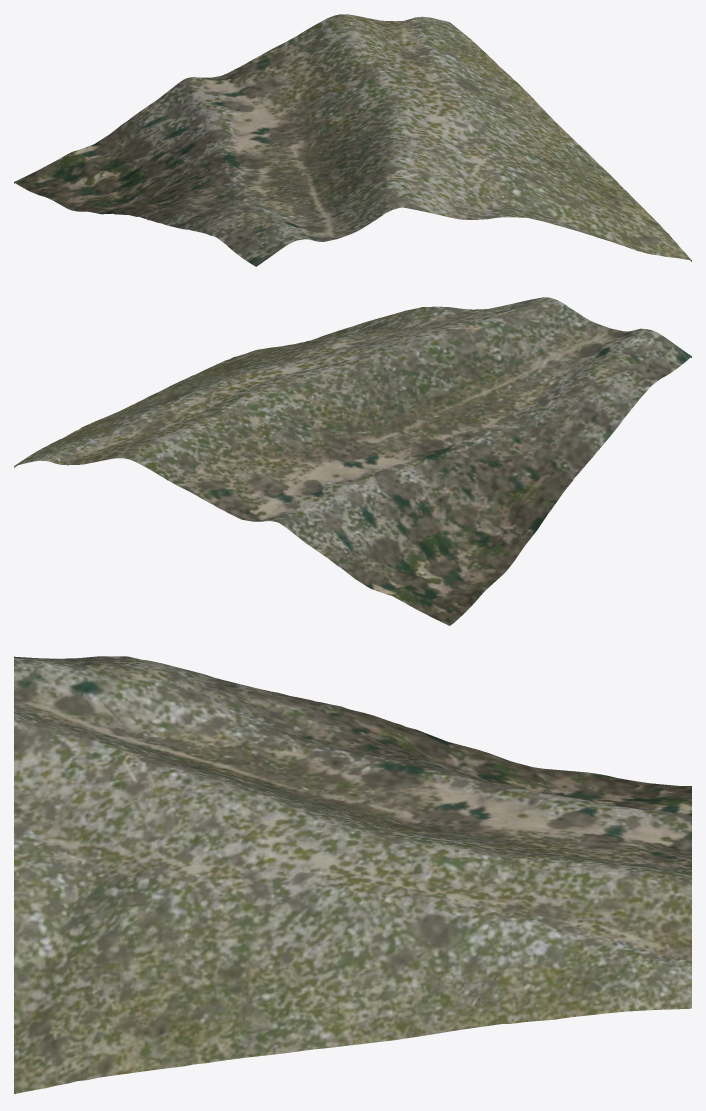
3 renders of one model, top to bottom at view 1: azimuth 30°, elevation 25°; view 2: azimuth 150°, elevation 25°; view 3: azimuth 270°, elevation 25°, orthographic. The views are drawn at different scales.
Bounding box in the file's own units: 250 × 68.95 × 241.
1 material, 1 textured.
